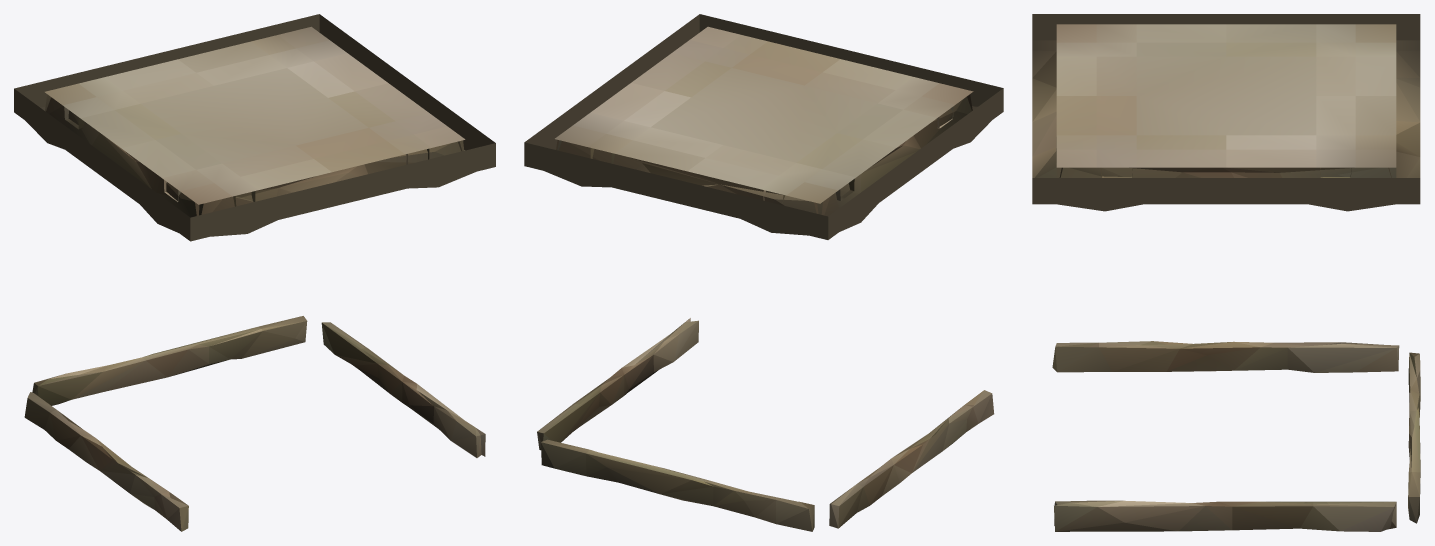
Rendered from Base_UG-1Way.fbx.
The picture shows the model from 3 angles, left to right: view 1: azimuth 30°, elevation 25°; view 2: azimuth 150°, elevation 25°; view 3: azimuth 270°, elevation 25°; orthographic projection. The views are drawn at different scales.
Visible parts, largest first — view 1: Base_UG-1Way; view 2: Base_UG-1Way; view 3: Base_UG-1Way.
Boxes of the visible parts, <box> form: Base_UG-1Way: <box>14,14,495,531</box>; Base_UG-1Way: <box>524,14,1003,531</box>; Base_UG-1Way: <box>1032,14,1420,531</box>.
Size of the model in its own units: 401 by 404 by 400.
